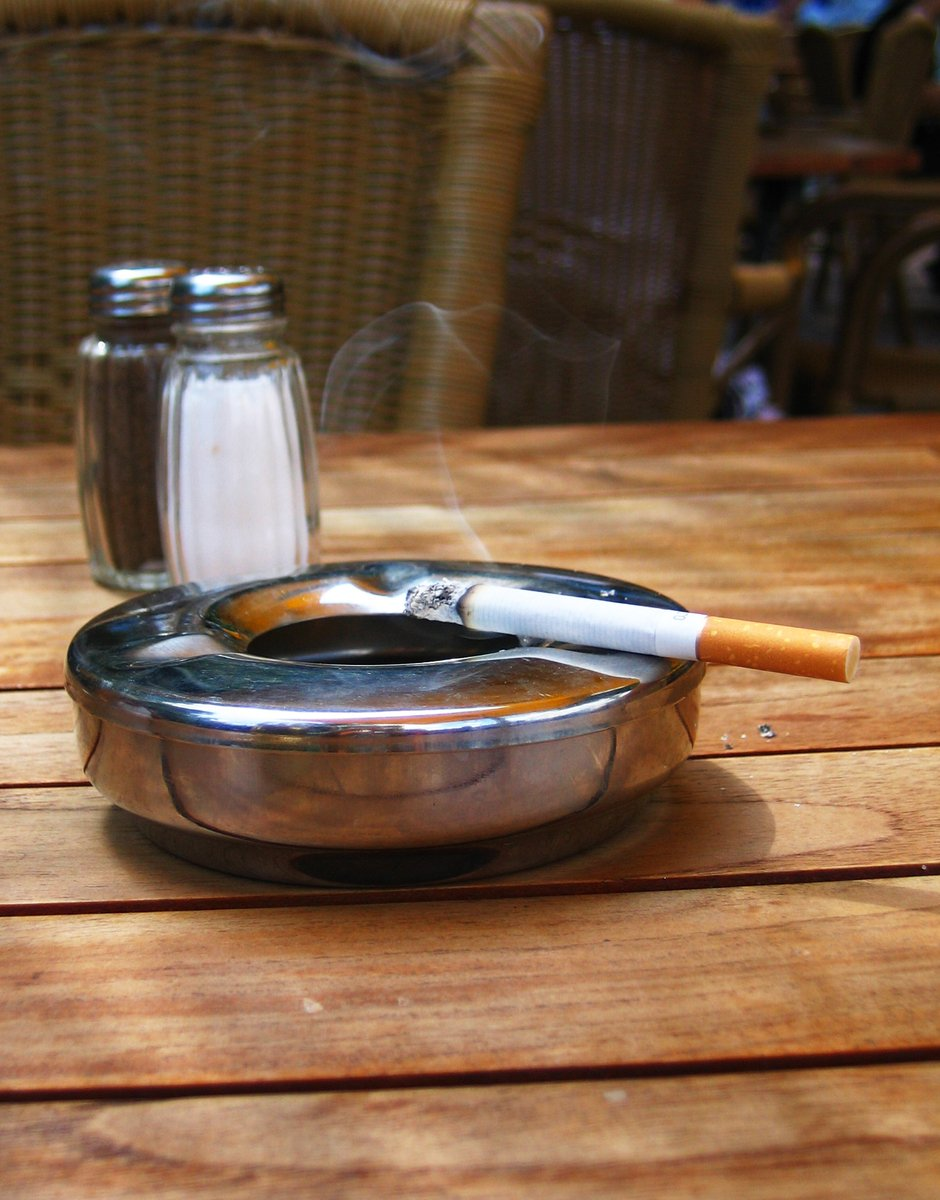cigarette: (404, 569, 864, 684)
